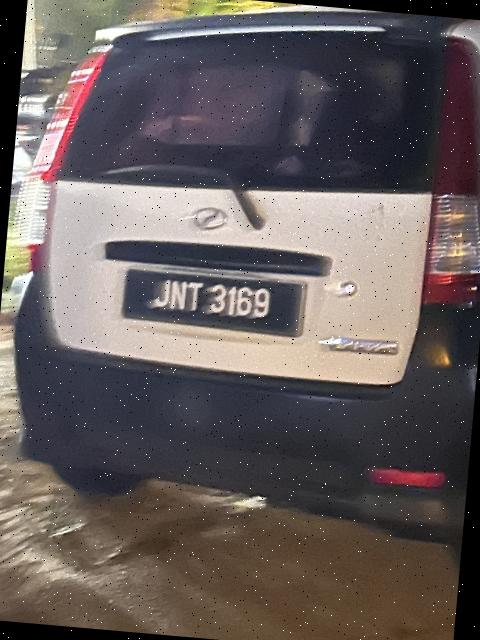License_Plate: (116, 261, 305, 336)
car: (1, 1, 480, 543)
